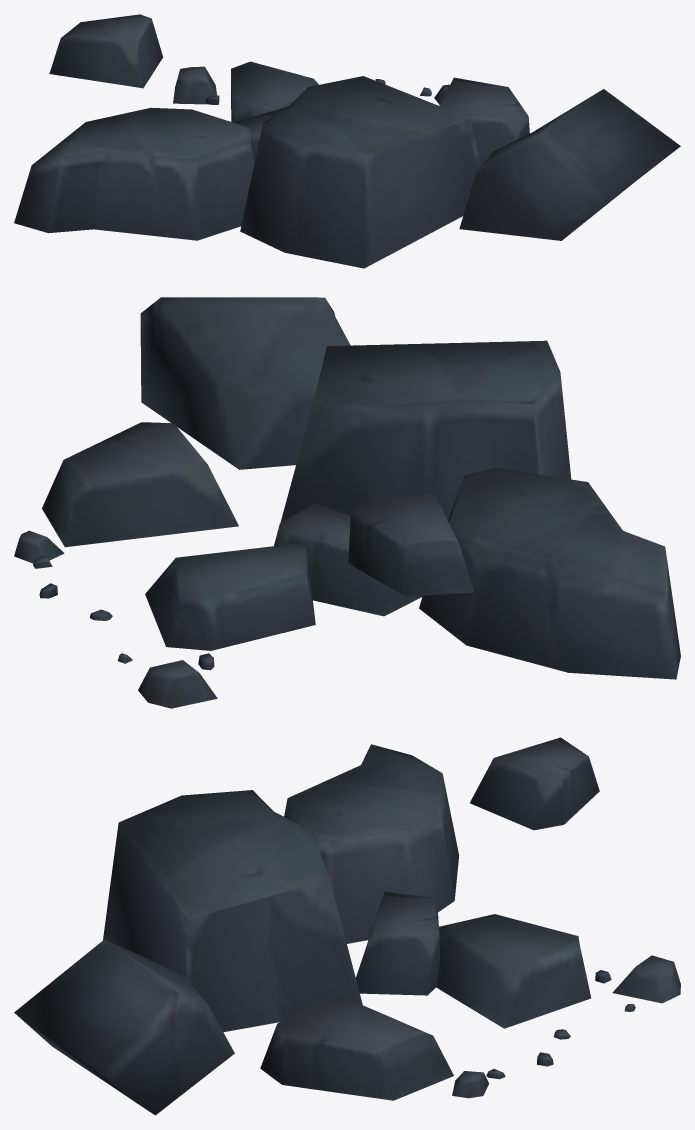
The model's file is Area_05_1.fbx.
The picture shows the model from 3 angles, top to bottom: view 1: azimuth 30°, elevation 25°; view 2: azimuth 150°, elevation 25°; view 3: azimuth 270°, elevation 25°; orthographic projection. The views are drawn at different scales.
Visible parts, largest first — view 1: Area_05_1; view 2: Area_05_1; view 3: Area_05_1.
Boxes of the visible parts, x1=… form: Area_05_1: x1=14, y1=14, x2=680, y2=268; Area_05_1: x1=14, y1=297, x2=680, y2=708; Area_05_1: x1=14, y1=737, x2=680, y2=1115.
Size of the model in its own units: 3682 by 869 by 3334.
